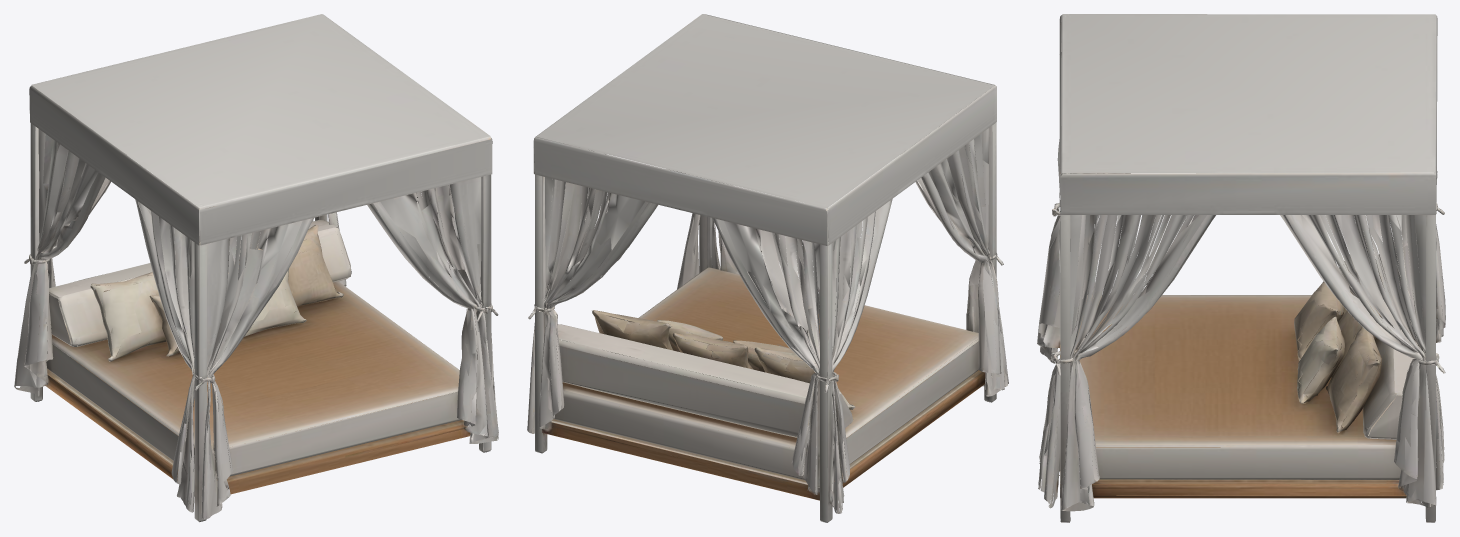
The model's file is cabana.glb.
3 renders of one model, left to right at view 1: azimuth 30°, elevation 25°; view 2: azimuth 150°, elevation 25°; view 3: azimuth 270°, elevation 25°, orthographic. The views are drawn at different scales.
Parts seen in each view (by area): view 1: tripo_node_4fad18d4-0143-43f1-aa5c-599c201132b9; view 2: tripo_node_4fad18d4-0143-43f1-aa5c-599c201132b9; view 3: tripo_node_4fad18d4-0143-43f1-aa5c-599c201132b9.
Part boxes in pixels (x1,y1,x2,y2): tripo_node_4fad18d4-0143-43f1-aa5c-599c201132b9: [14, 14, 498, 522]; tripo_node_4fad18d4-0143-43f1-aa5c-599c201132b9: [527, 14, 1008, 522]; tripo_node_4fad18d4-0143-43f1-aa5c-599c201132b9: [1037, 14, 1445, 522].
Bounding box in the file's own units: 2.77 × 2.6 × 2.74.
Materials: 1 (1 with a texture image).
